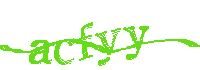a: (30, 40, 52, 65)
c: (55, 39, 75, 66)
f: (77, 20, 94, 62)
y: (96, 28, 121, 67), (123, 24, 148, 62)
